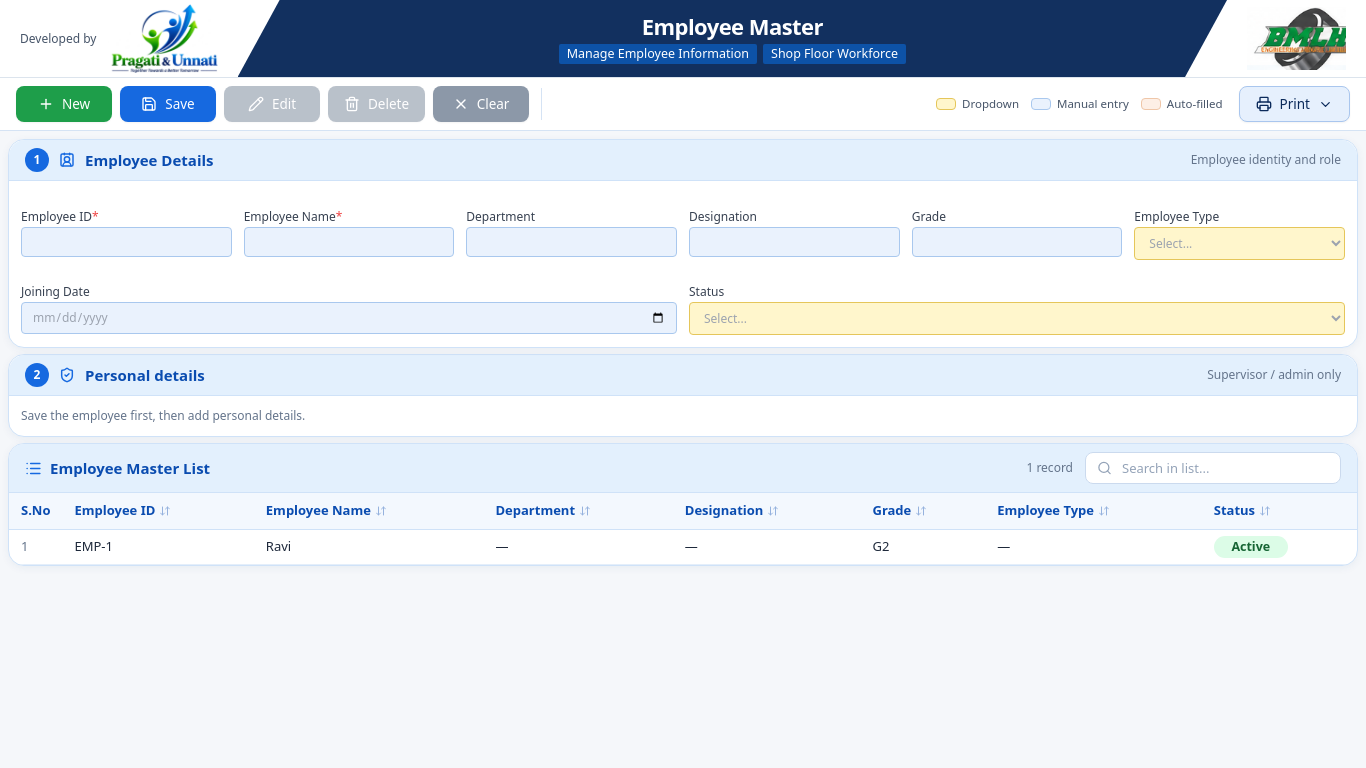
Test: Employee photo (060) › Remove photo: confirm -> photo_path null -> file deleted
Click the text "Ravi". click: (279, 546)
box: [254,529,483,565]
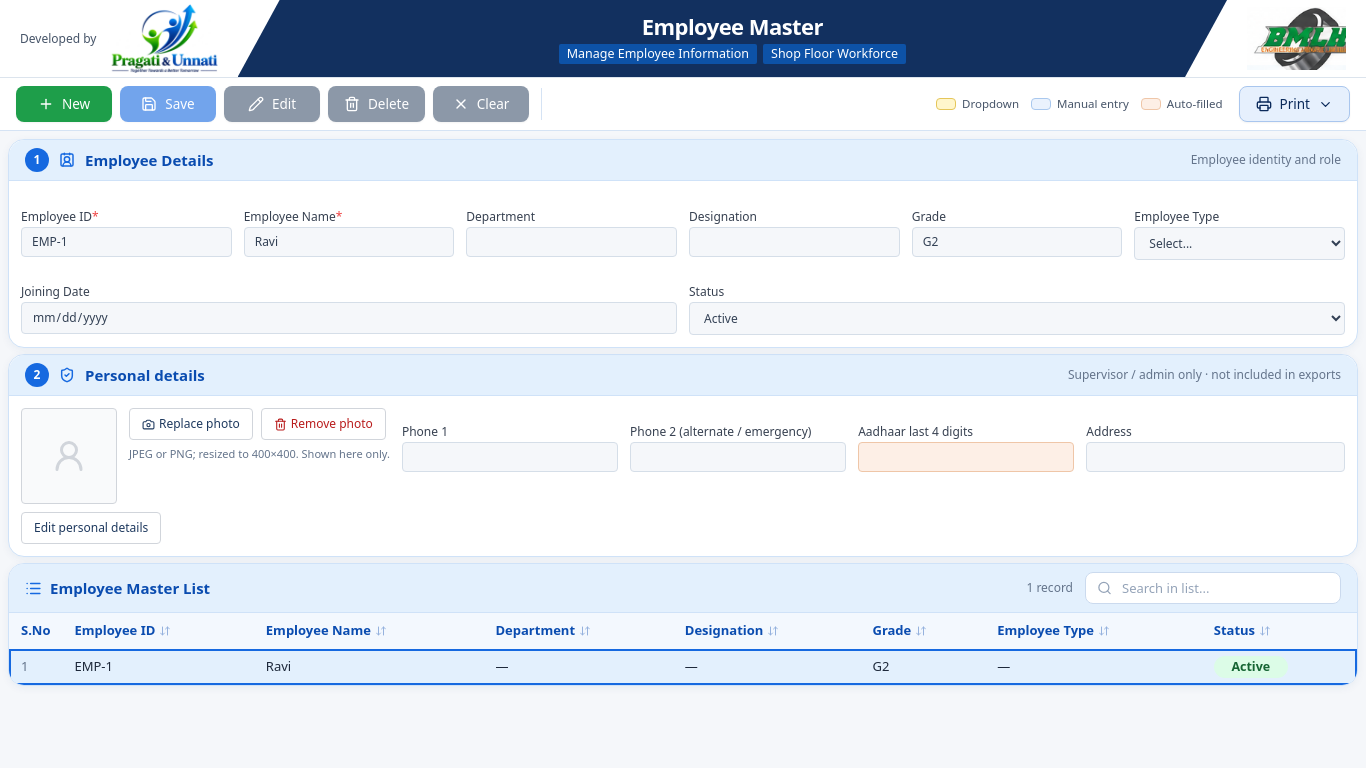
Click the button "Remove photo". click: (323, 424)
box: [261,408,386,440]
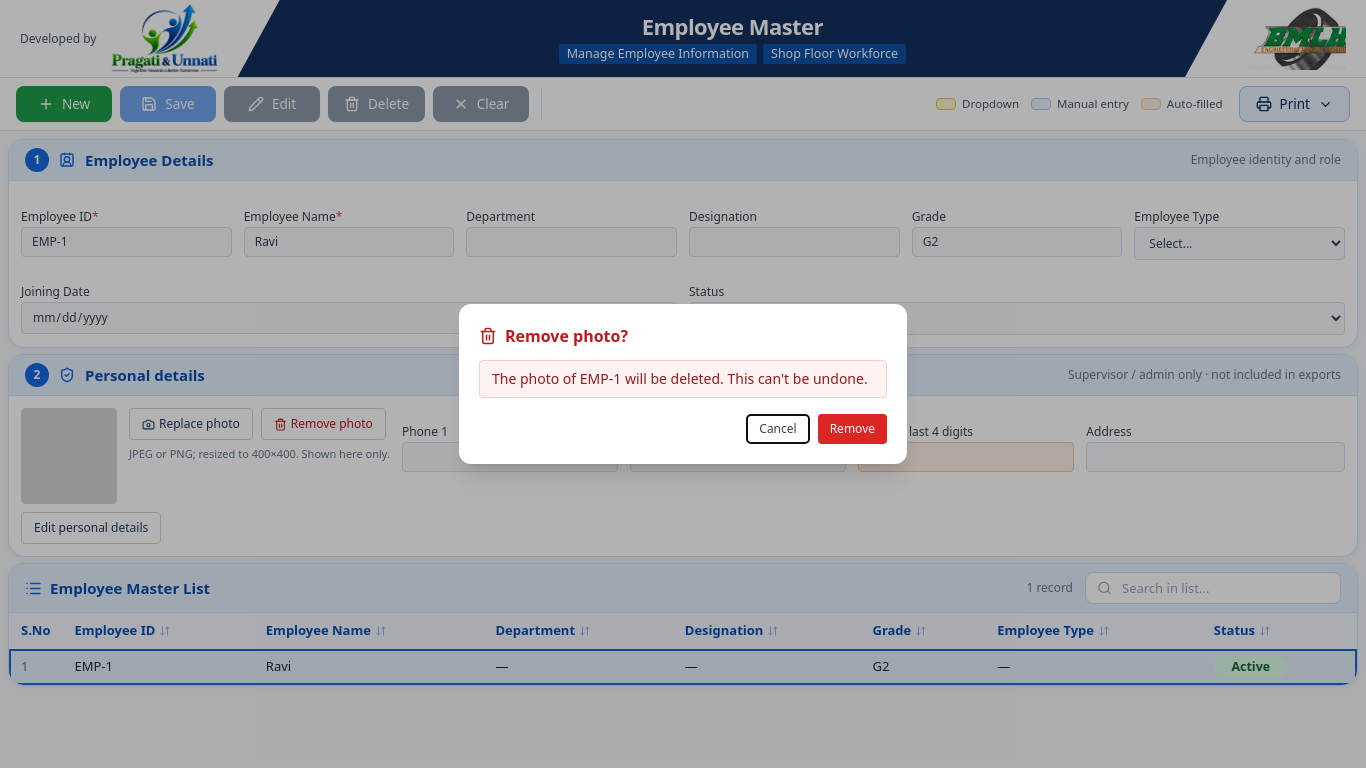
Click the button "Remove". click: (852, 429)
box: [818,414,887,444]
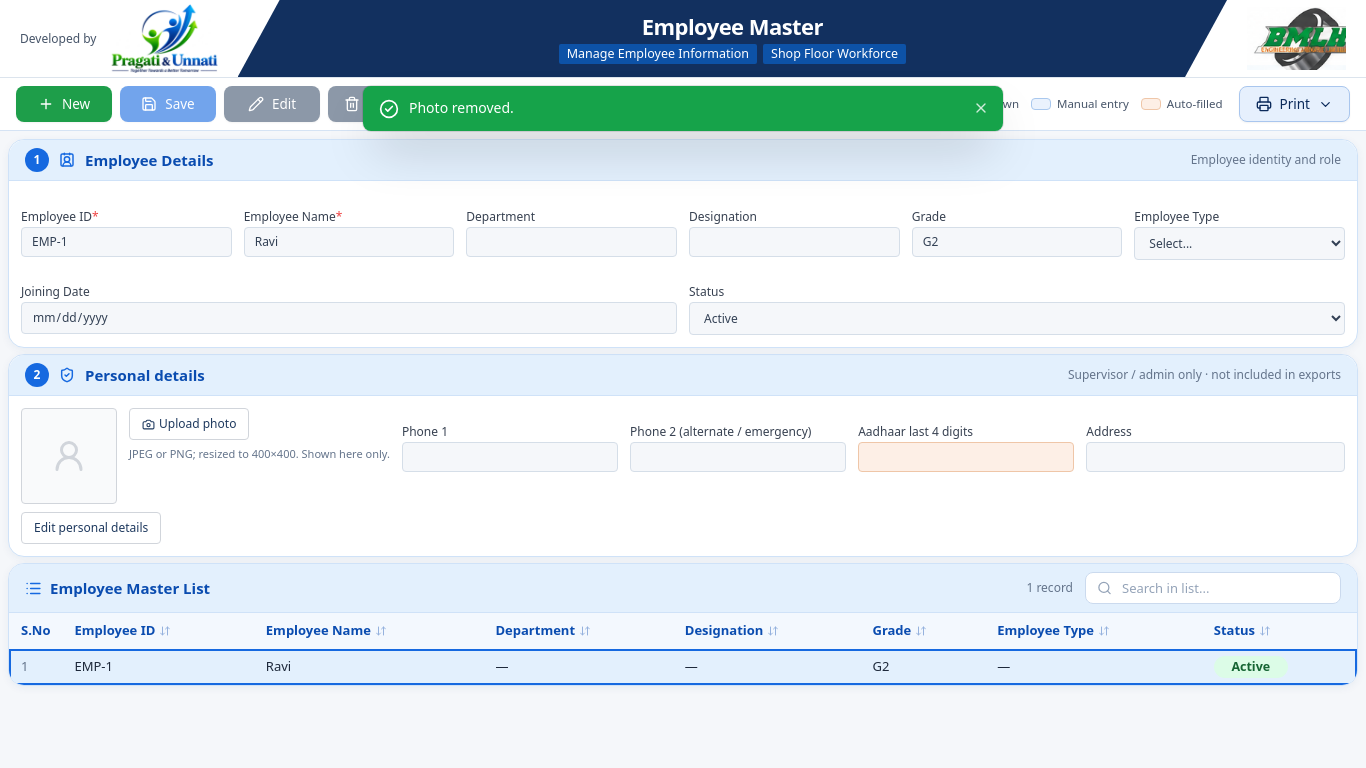
Expected: the text "Photo removed." is shown, [409,98,514,117]
